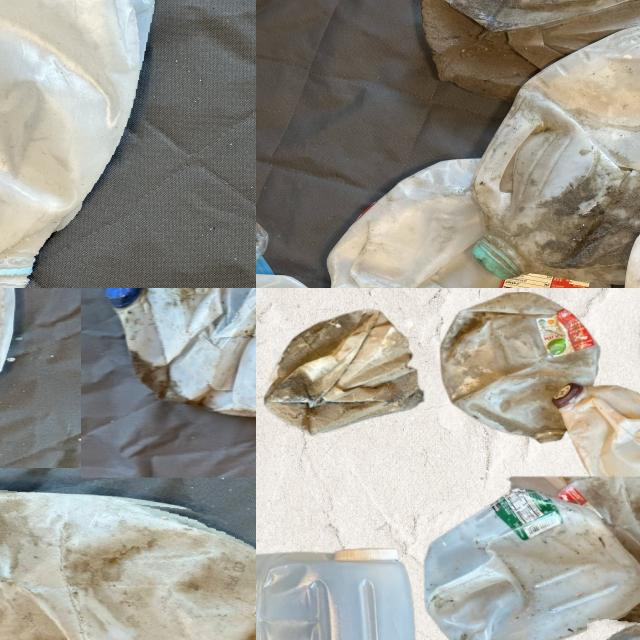milk-jug: (468, 20, 640, 288), (0, 0, 158, 288), (0, 483, 256, 640), (330, 156, 620, 288), (411, 509, 636, 640), (439, 294, 601, 442), (413, 0, 640, 102), (258, 310, 426, 436), (106, 288, 256, 422), (256, 547, 424, 640), (550, 474, 640, 618), (545, 377, 640, 493)
